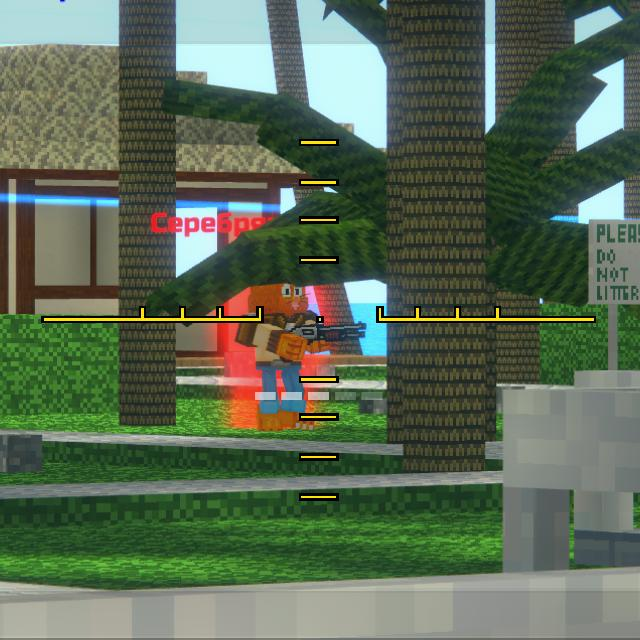Enemy: (235, 284, 336, 424)
